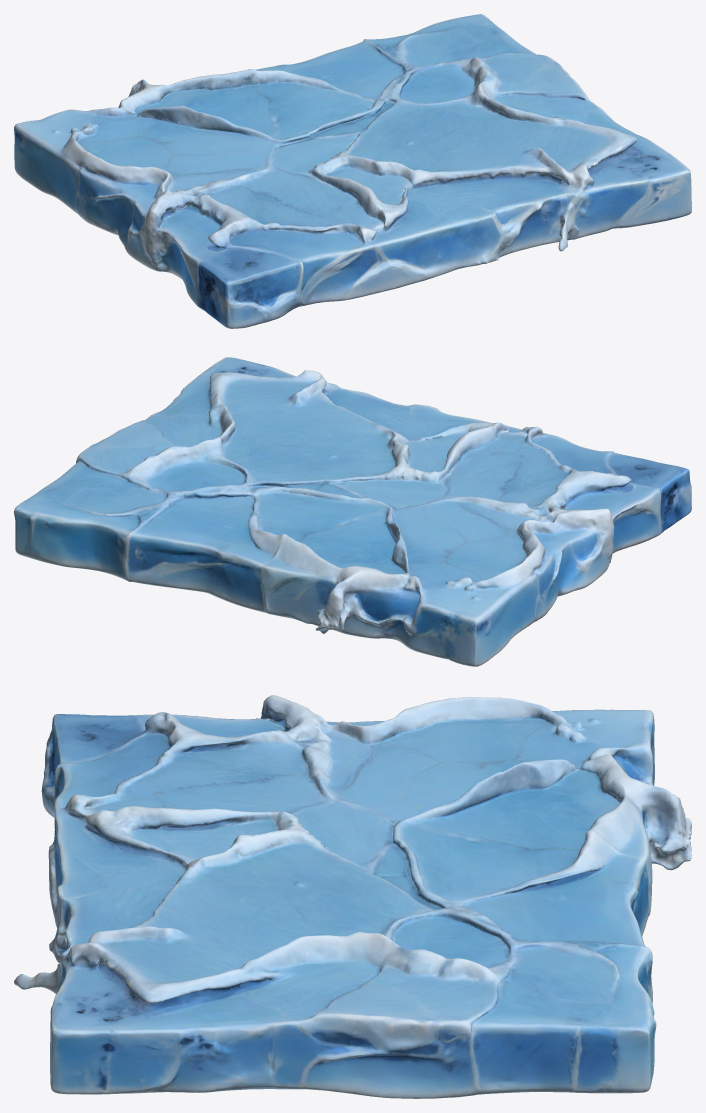
File: Meshy_AI_a_flat_ice_tile_at_a_1115233229_texture.glb
3 views of the same model, one above another, from view 1: azimuth 30°, elevation 25°; view 2: azimuth 150°, elevation 25°; view 3: azimuth 270°, elevation 25° (orthographic). The views are drawn at different scales.
Bounding box in the file's own units: 2 × 0.295 × 1.78.
1 material, 1 textured.
